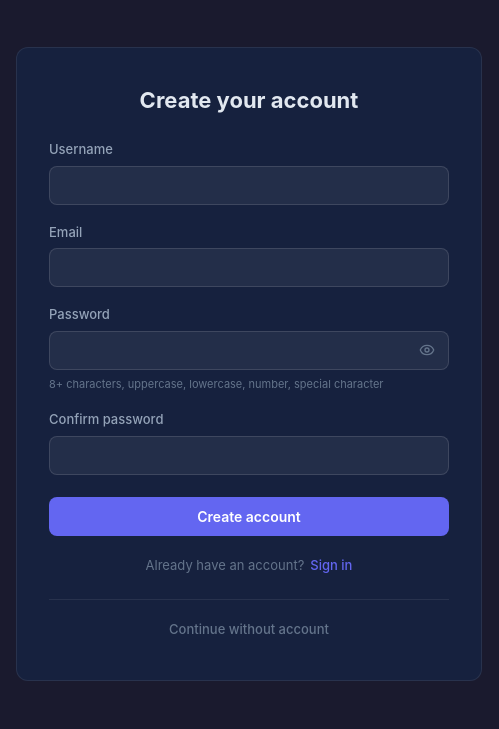
Scenario: Signup › password validation: too short
In the field labelled "Username": (249, 185) [49,166,449,205], type "testuser"
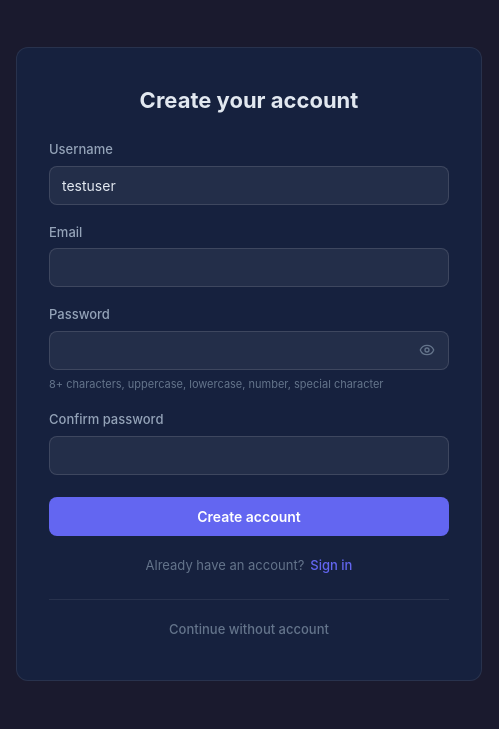
In the field labelled "Email": (249, 268) [49,248,449,287], type "test@example.com"
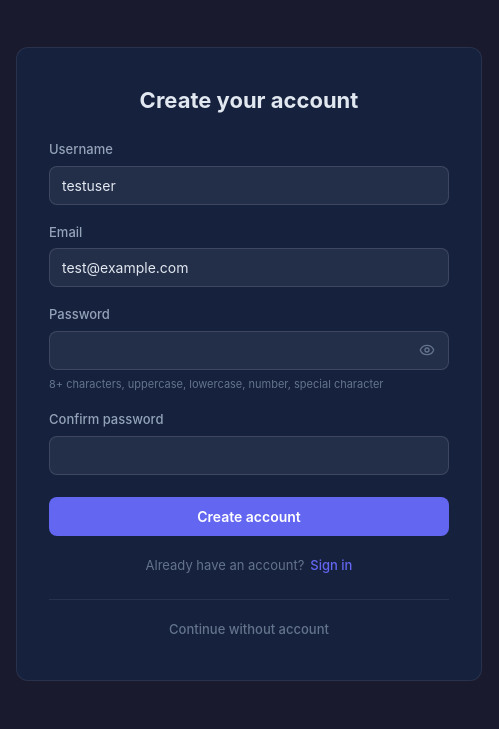
In the password field labelled "Password": (249, 350) [49,331,449,370], type "Ab1!"
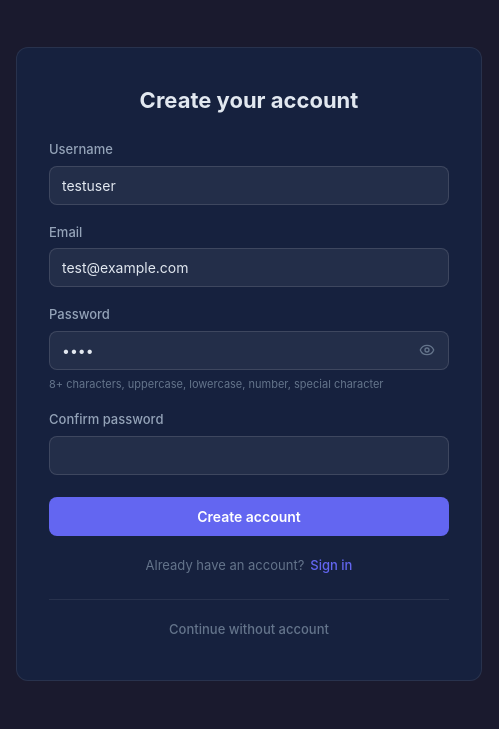
In the password field labelled "Confirm password": (249, 455) [49,436,449,475], type "Ab1!"
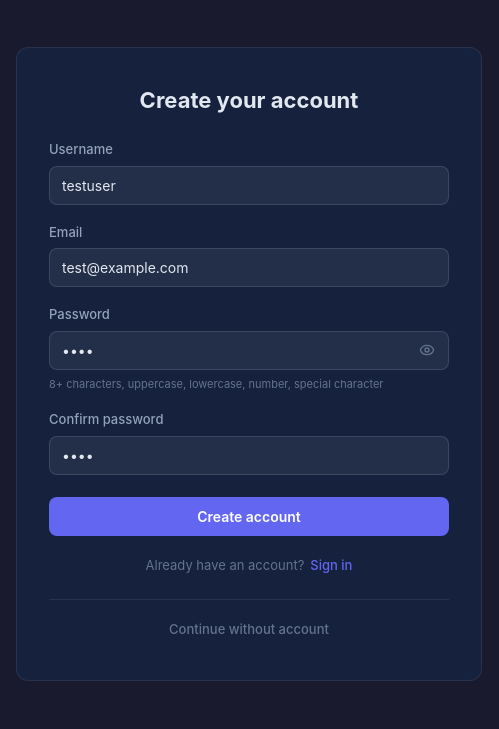
Click the button "Create account": (249, 516) [49,497,449,536]
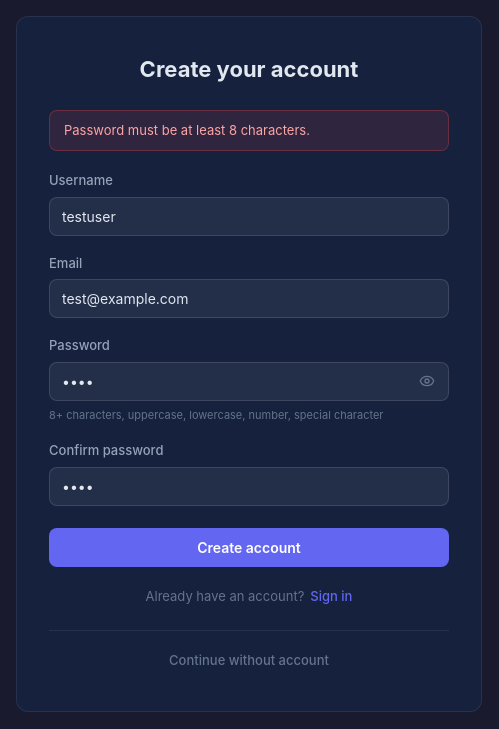
Now the text "Password must be at least 8 characters." is shown, box [49,110,449,151]
